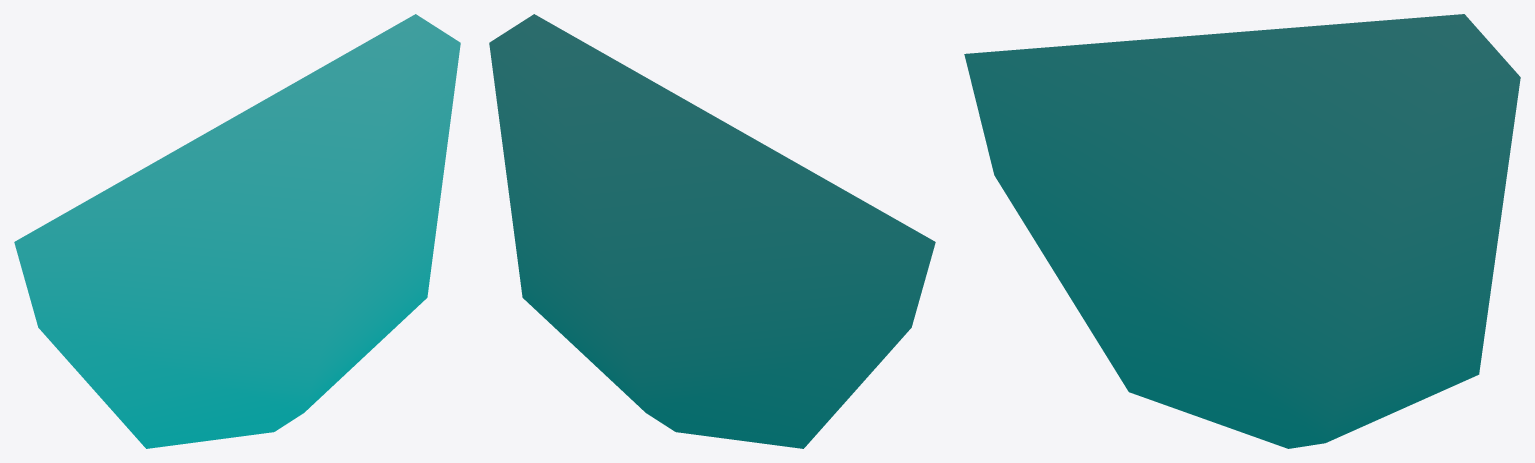
The model's file is Ribbon_Grass_tbdpec3r_High_tbdpec3r_VarD_LOD2.glb.
The picture shows the model from 3 angles, left to right: view 1: azimuth 30°, elevation 25°; view 2: azimuth 150°, elevation 25°; view 3: azimuth 330°, elevation 25°; orthographic projection. The views are drawn at different scales.
Parts seen in each view (by area): view 1: _d480_VarD_LOD3; view 2: _d480_VarD_LOD3; view 3: _d480_VarD_LOD3.
Part boxes in pixels (x1,y1,x2,y2): _d480_VarD_LOD3: (14, 14, 460, 448); _d480_VarD_LOD3: (489, 14, 935, 448); _d480_VarD_LOD3: (964, 14, 1520, 448).
Size of the model in its own units: 0.4329 by 0.3553 by 4.77e-08.
